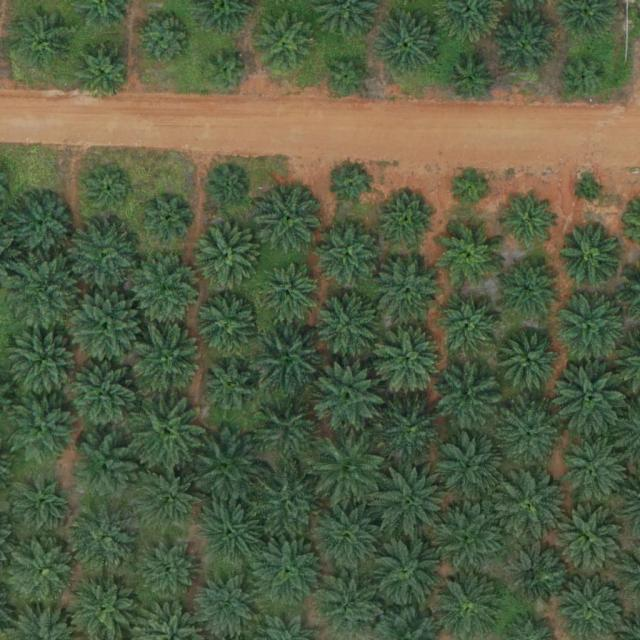Healthy: (8, 255, 86, 334), (66, 358, 144, 437), (129, 322, 207, 401), (129, 394, 207, 473), (189, 429, 267, 508), (249, 316, 327, 395), (248, 391, 326, 470), (248, 463, 326, 542), (311, 359, 389, 438), (310, 433, 388, 512), (371, 463, 449, 542), (551, 362, 629, 441), (368, 534, 446, 613), (310, 497, 388, 576), (249, 532, 327, 611), (371, 324, 449, 402), (490, 468, 568, 546), (432, 499, 510, 577), (11, 329, 82, 400), (10, 394, 80, 465), (5, 468, 76, 538), (71, 290, 141, 361), (69, 435, 139, 506), (131, 255, 202, 325), (136, 465, 206, 536), (558, 436, 628, 507), (69, 507, 139, 578), (9, 537, 79, 608), (67, 218, 137, 288), (556, 289, 626, 359), (494, 14, 557, 77), (377, 13, 440, 76), (200, 355, 263, 418), (260, 187, 323, 250), (317, 223, 380, 286), (317, 293, 380, 356), (440, 225, 503, 288), (437, 297, 500, 360), (440, 433, 503, 496), (499, 330, 562, 393), (497, 403, 560, 466), (194, 575, 257, 638), (255, 13, 317, 76), (197, 224, 259, 287), (196, 296, 258, 359), (257, 263, 319, 326), (377, 258, 439, 321), (382, 400, 444, 463), (438, 368, 500, 431), (498, 258, 560, 321), (560, 223, 623, 285), (558, 510, 620, 573), (503, 542, 565, 605), (321, 574, 383, 637), (72, 40, 134, 102), (13, 9, 75, 71), (10, 195, 72, 257), (200, 500, 262, 562), (136, 542, 198, 604), (138, 13, 193, 68), (383, 193, 438, 248), (501, 195, 556, 250), (449, 58, 496, 105)
Small: (86, 168, 133, 216), (562, 54, 609, 102), (204, 49, 251, 97), (146, 196, 193, 243), (326, 54, 373, 101), (209, 167, 249, 207), (334, 166, 373, 205), (451, 167, 490, 206), (580, 179, 603, 203)
